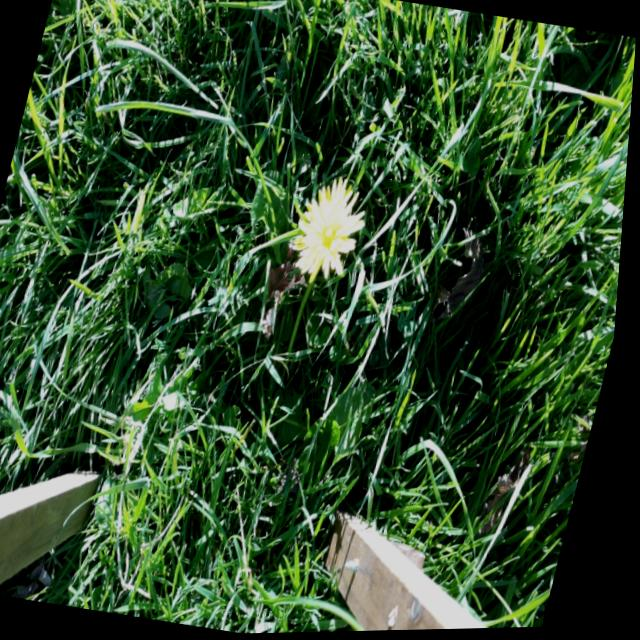base: (271, 363, 303, 403)
flower: (288, 174, 373, 288)
